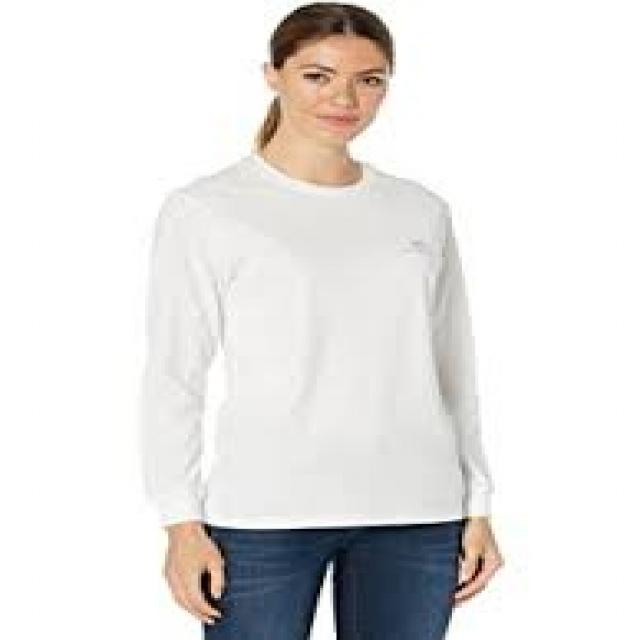plain: (140, 148, 492, 531)
